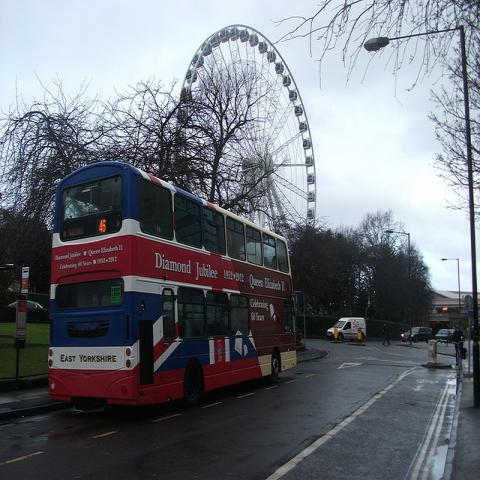bus: (51, 160, 298, 408)
car: (400, 326, 432, 344), (9, 300, 43, 308), (435, 329, 453, 344)
truck: (326, 317, 366, 342)
